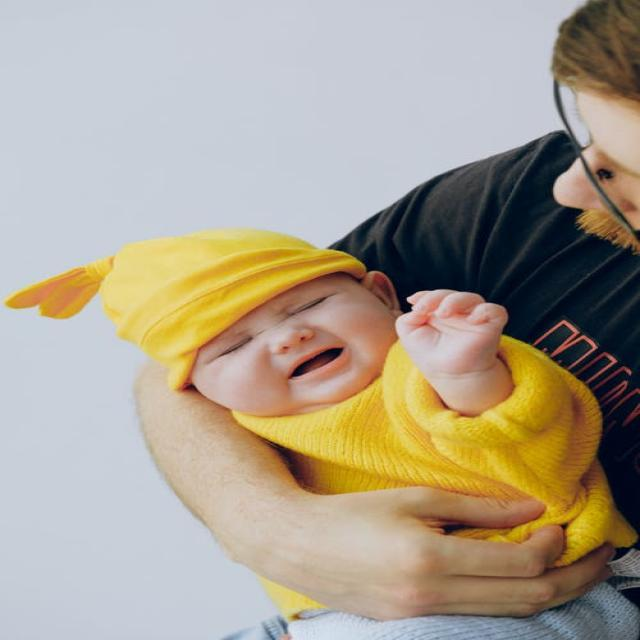non-dog: (132, 2, 640, 620), (9, 227, 640, 640)
